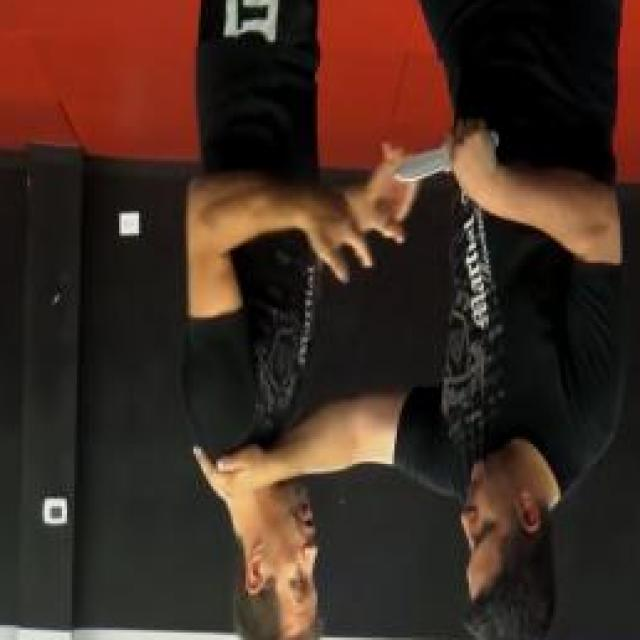knife: (391, 122, 504, 188)
